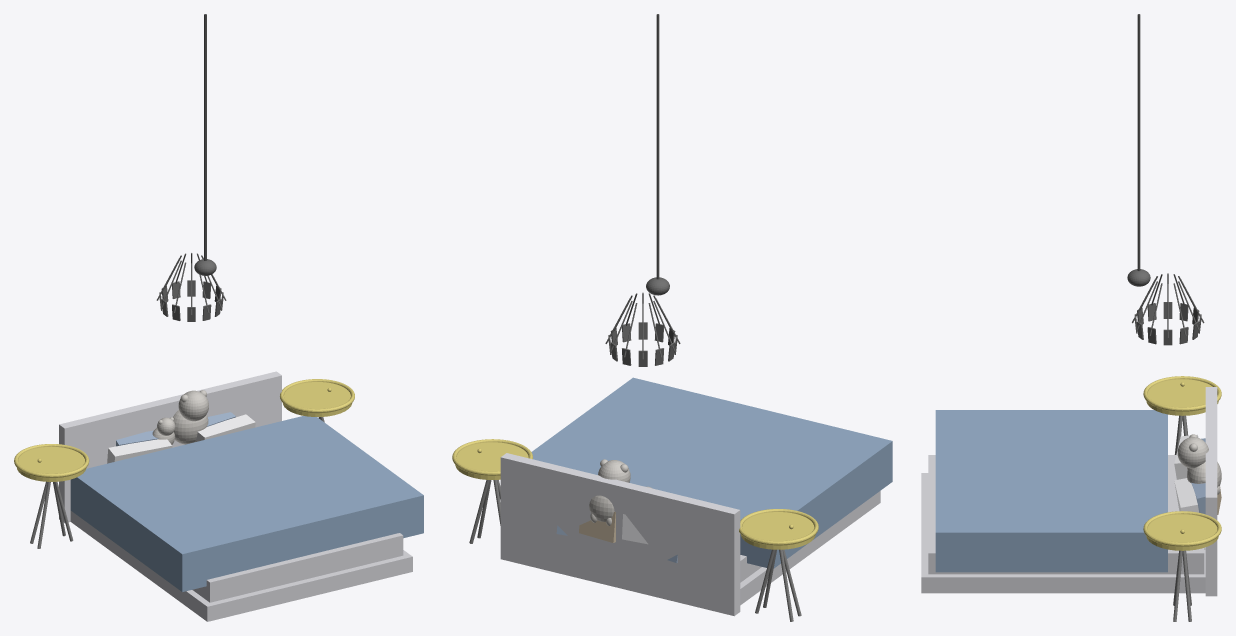
3 views of the same model, side by side, from view 1: azimuth 30°, elevation 25°; view 2: azimuth 150°, elevation 25°; view 3: azimuth 270°, elevation 25° (orthographic). The views are drawn at different scales.
Visible parts, largest first — view 1: duvet, headboard, platform, mattress, ns_top_L, ns_top_R, pillow_large_L, pillow_large_R, lamp_cord, bear_large_body, bear_large_head, ns_trim_R (+1 smaller); view 2: duvet, headboard, ns_top_L, platform, ns_top_R, lamp_cord, ns_trim_L, pillow_brown, ns_trim_R; view 3: duvet, platform, mattress, headboard, ns_top_R, ns_top_L, lamp_cord, ns_trim_R, bear_large_head, ns_trim_L, pillow_large_R.
Boxes of the visible parts, box(x1,y1,x2,y2) form: duvet: box(70, 416, 423, 591); headboard: box(59, 371, 281, 523); platform: box(70, 511, 412, 621); mattress: box(192, 533, 403, 602); ns_top_L: box(17, 446, 86, 481); ns_top_R: box(283, 382, 352, 416); pillow_large_L: box(107, 439, 172, 463); pillow_large_R: box(195, 414, 255, 441); lamp_cord: box(204, 14, 206, 260); bear_large_body: box(173, 410, 208, 444); bear_large_head: box(178, 390, 208, 421); ns_trim_R: box(280, 379, 354, 413); duvet: box(531, 377, 892, 568); headboard: box(500, 453, 740, 616); ns_top_L: box(741, 512, 815, 549); platform: box(740, 491, 880, 605); ns_top_R: box(455, 442, 528, 479); lamp_cord: box(656, 14, 659, 279); ns_trim_L: box(739, 509, 818, 545); pillow_brown: box(579, 511, 615, 542); ns_trim_R: box(452, 439, 532, 475); duvet: box(935, 410, 1167, 572); platform: box(921, 473, 1205, 593); mattress: box(928, 455, 1204, 574); headboard: box(1205, 387, 1217, 596); ns_top_R: box(1146, 514, 1218, 550); ns_top_L: box(1146, 379, 1218, 415); lamp_cord: box(1137, 14, 1140, 270); ns_trim_R: box(1143, 511, 1221, 546); bear_large_head: box(1177, 437, 1208, 468); ns_trim_L: box(1143, 376, 1221, 411); pillow_large_R: box(1174, 478, 1205, 549).
Bounding box in the file's own units: 2.74 × 4.04 × 2.07.
